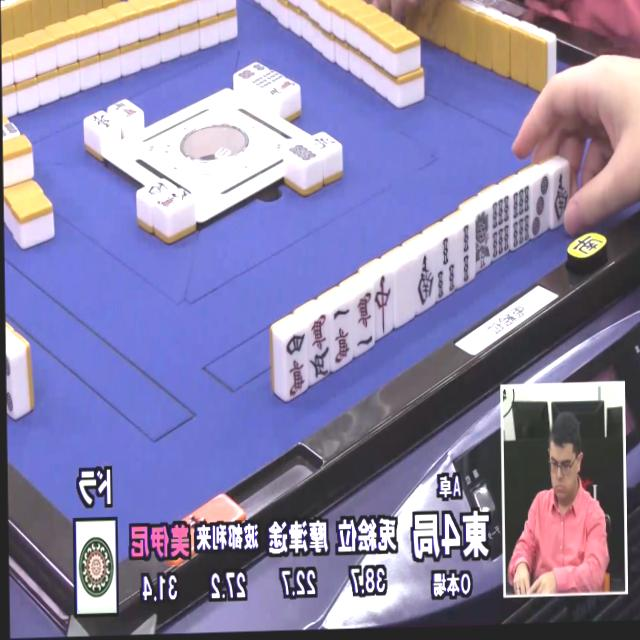bai: (393, 262, 416, 323)
m1: (329, 303, 356, 370), (352, 289, 375, 353)
m4: (279, 329, 309, 400)
m5: (308, 312, 333, 382)
s1: (473, 209, 493, 274)
s2: (453, 224, 473, 289)
s3: (435, 235, 458, 302)
s6: (489, 195, 513, 261), (511, 185, 534, 251)
south: (414, 247, 438, 312), (552, 166, 569, 226)
t1: (72, 518, 116, 612)
t3: (530, 172, 551, 239)
zhong: (371, 270, 394, 338)
